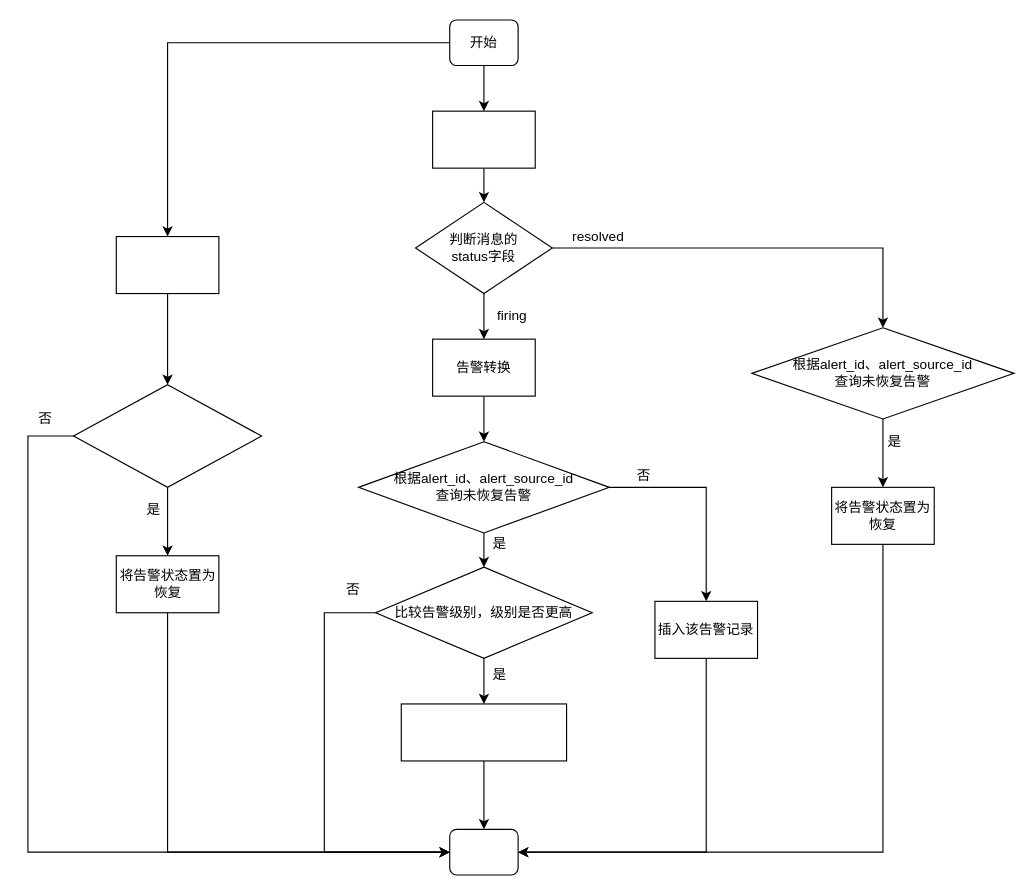
The diagram is 1034 pixels wide and 895 high, and some of its shapes have lost their labels. Each missing label, with the centre of its shape:
"修改该记录的告警级别和告警更新时间字段" belongs at point 483,732.
"判断告警更新时间 是否在一定时间内未更新" belongs at point 167,435.
"接收消息" belongs at point 483,139.
"结束" belongs at point 483,851.
"获取未恢复告警" belongs at point 167,264.
